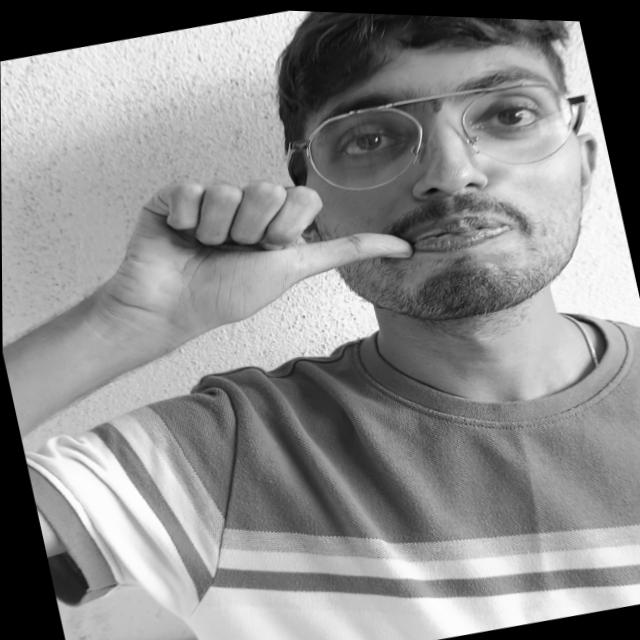Drink: (72, 118, 434, 379)
